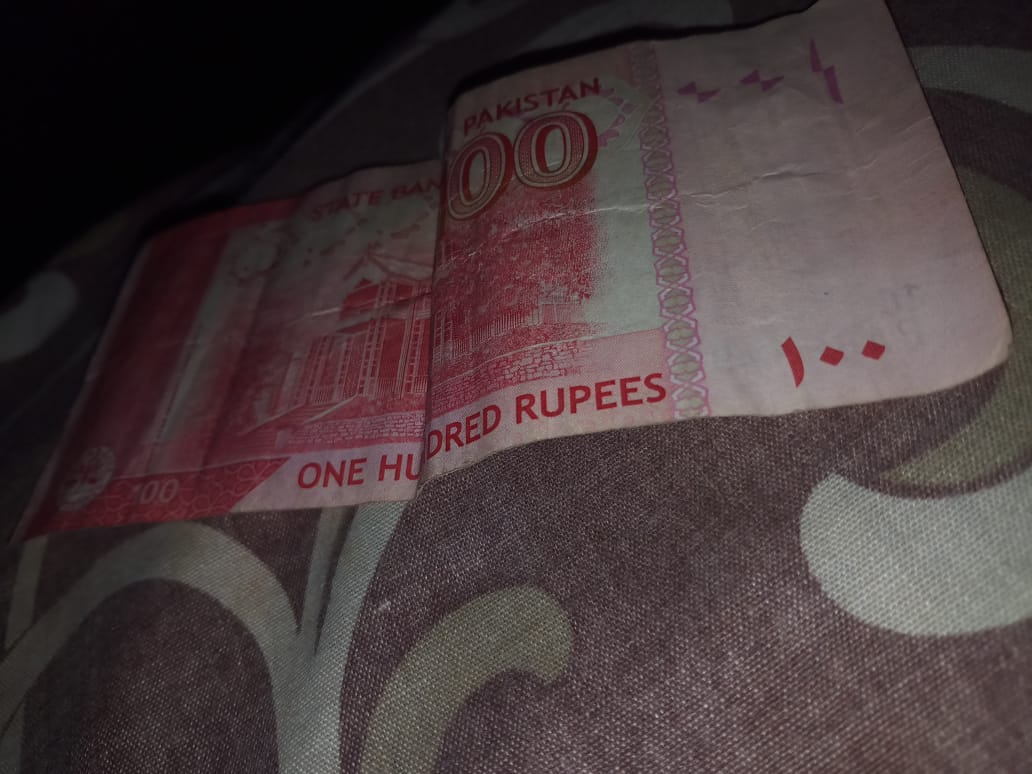100 rupee: (10, 13, 997, 570)
